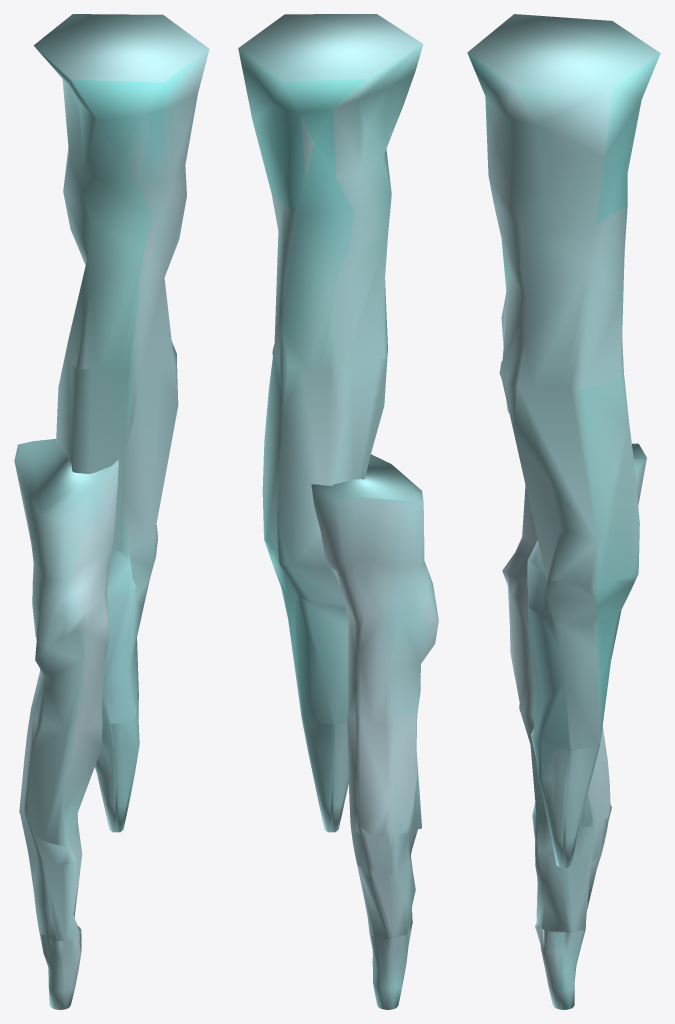
The model's file is icicle.glb.
The picture shows the model from 3 angles, left to right: view 1: azimuth 30°, elevation 25°; view 2: azimuth 150°, elevation 25°; view 3: azimuth 270°, elevation 25°; orthographic projection. The views are drawn at different scales.
Parts seen in each view (by area): view 1: Cylinder, Cylinder.001; view 2: Cylinder, Cylinder.001; view 3: Cylinder, Cylinder.001.
Boxes of the visible parts, x1,y1,x2,y2 form: Cylinder: [33, 14, 209, 832]; Cylinder.001: [14, 438, 118, 1009]; Cylinder: [238, 14, 423, 832]; Cylinder.001: [311, 454, 438, 1009]; Cylinder: [467, 14, 660, 867]; Cylinder.001: [502, 443, 646, 1009].
Bounding box in the file's own units: 0.7631 × 4.23 × 0.752.
1 material, 1 textured.
